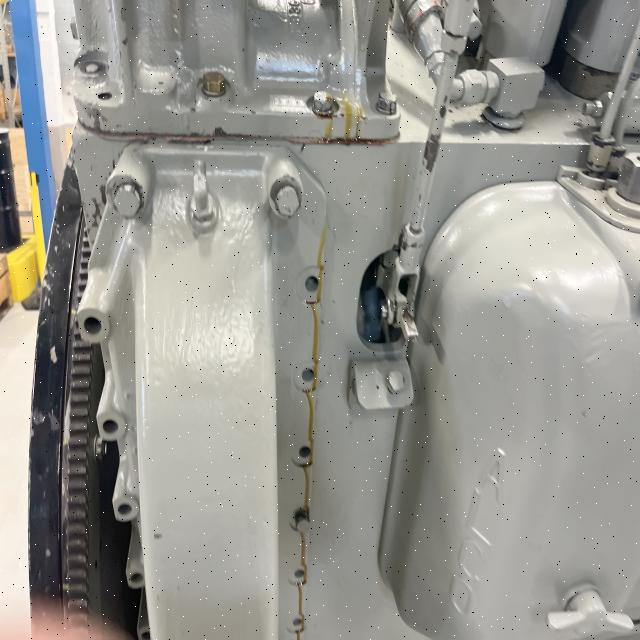Oil Leak: (281, 219, 327, 640), (305, 90, 368, 145)
